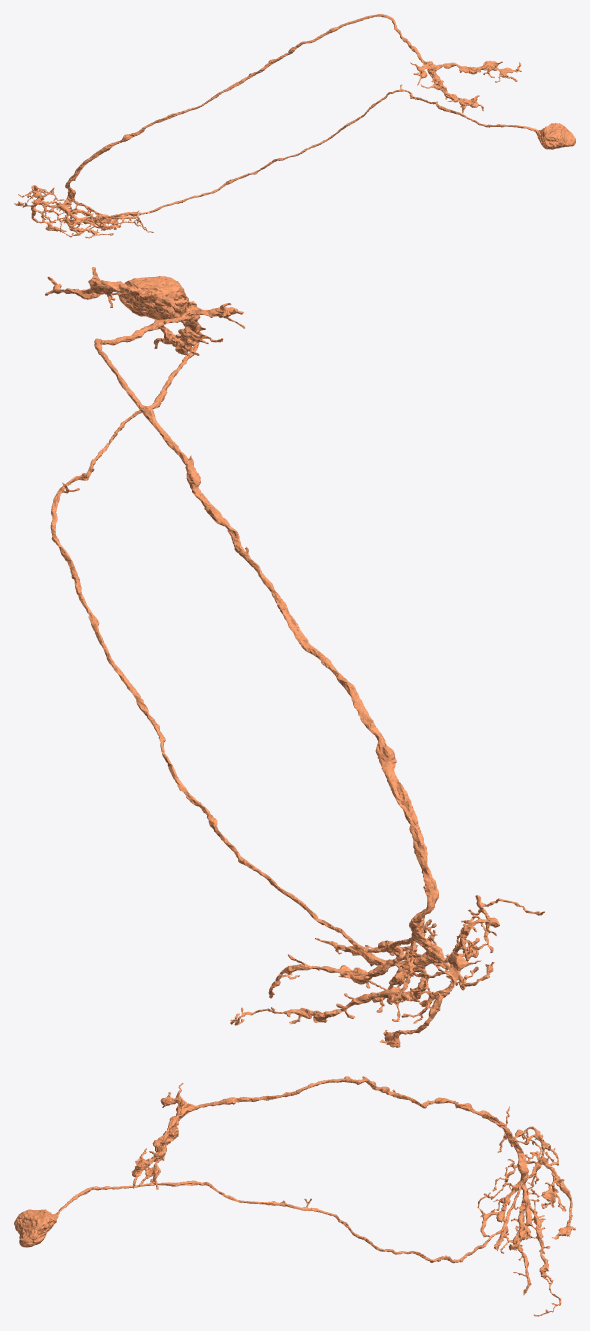
File: VFB_jrmc0u10.glb
3 views of the same model, one above another, from view 1: azimuth 30°, elevation 25°; view 2: azimuth 150°, elevation 25°; view 3: azimuth 270°, elevation 25° (orthographic). The views are drawn at different scales.
Visible parts, largest first — view 1: VFB_jrmc0u10; view 2: VFB_jrmc0u10; view 3: VFB_jrmc0u10.
Part boxes in pixels (box(x1,y1,x2,y2)): VFB_jrmc0u10: box(14, 14, 575, 238); VFB_jrmc0u10: box(45, 267, 544, 1047); VFB_jrmc0u10: box(14, 1076, 575, 1316).
Size of the model in its own units: 0.038 by 0.0227 by 0.0346.
